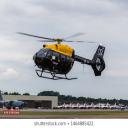helicopter: (17, 32, 110, 81)
